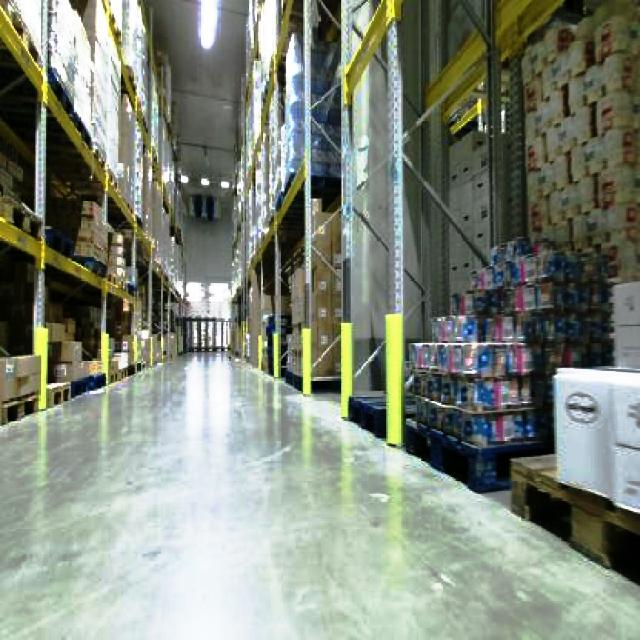ground: (0, 346, 638, 638)
pallet: (229, 0, 638, 638), (508, 222, 638, 638), (405, 235, 614, 492), (506, 449, 638, 638), (283, 194, 342, 392)
